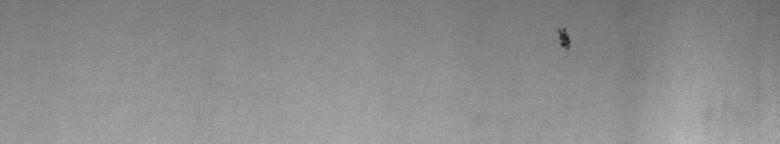fi: (552, 24, 576, 56)
